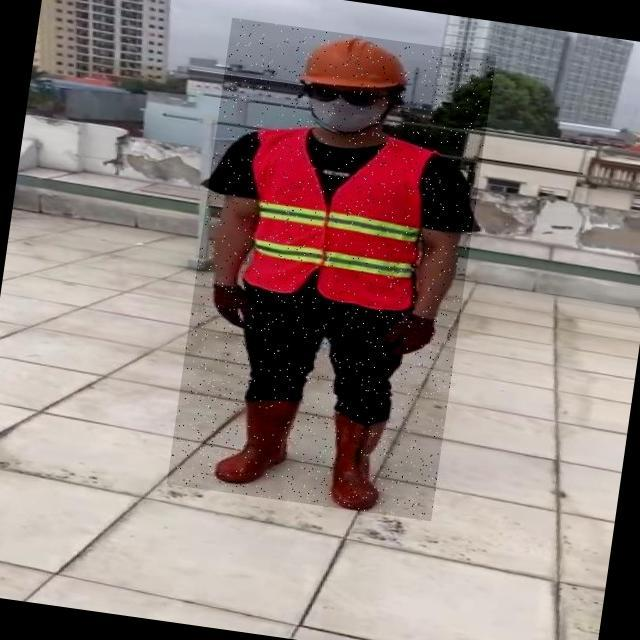Gloves: (380, 314, 435, 361), (209, 282, 260, 329)
Helmet: (297, 30, 408, 98)
Human: (167, 18, 497, 522)
Safety Boot: (214, 393, 305, 491), (321, 409, 398, 514)
Safety Vest: (236, 122, 438, 316)
